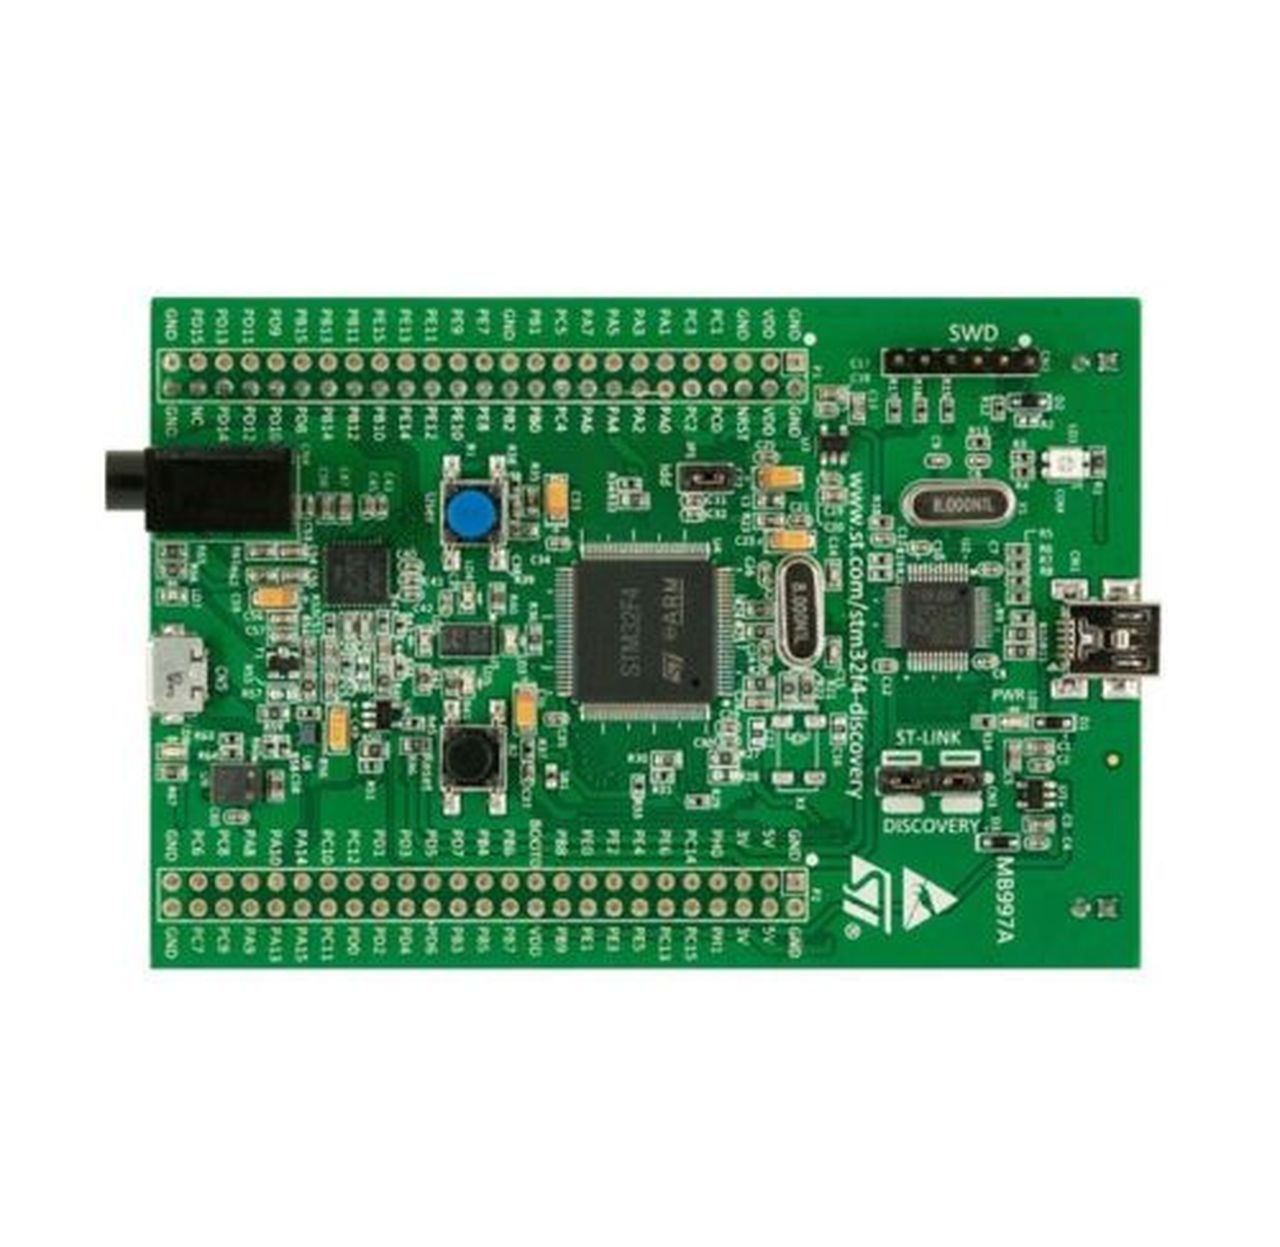STM32F4-DISC: (87, 285, 1171, 988)
